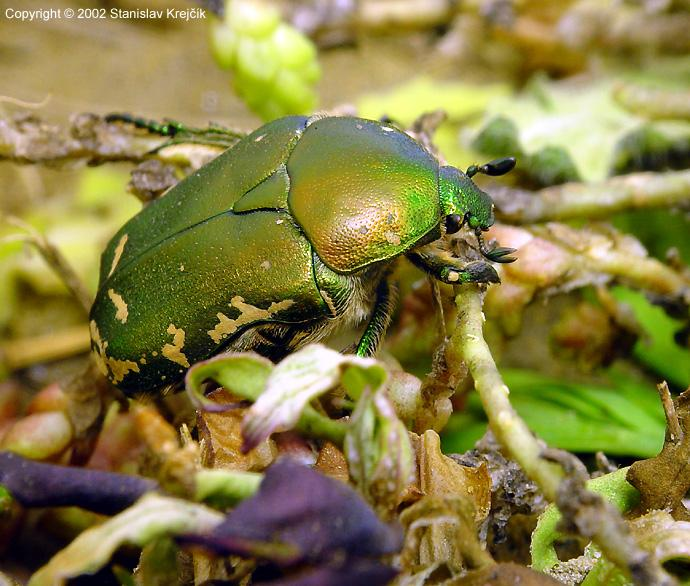Protaetia_ungarica: (85, 103, 530, 407)
